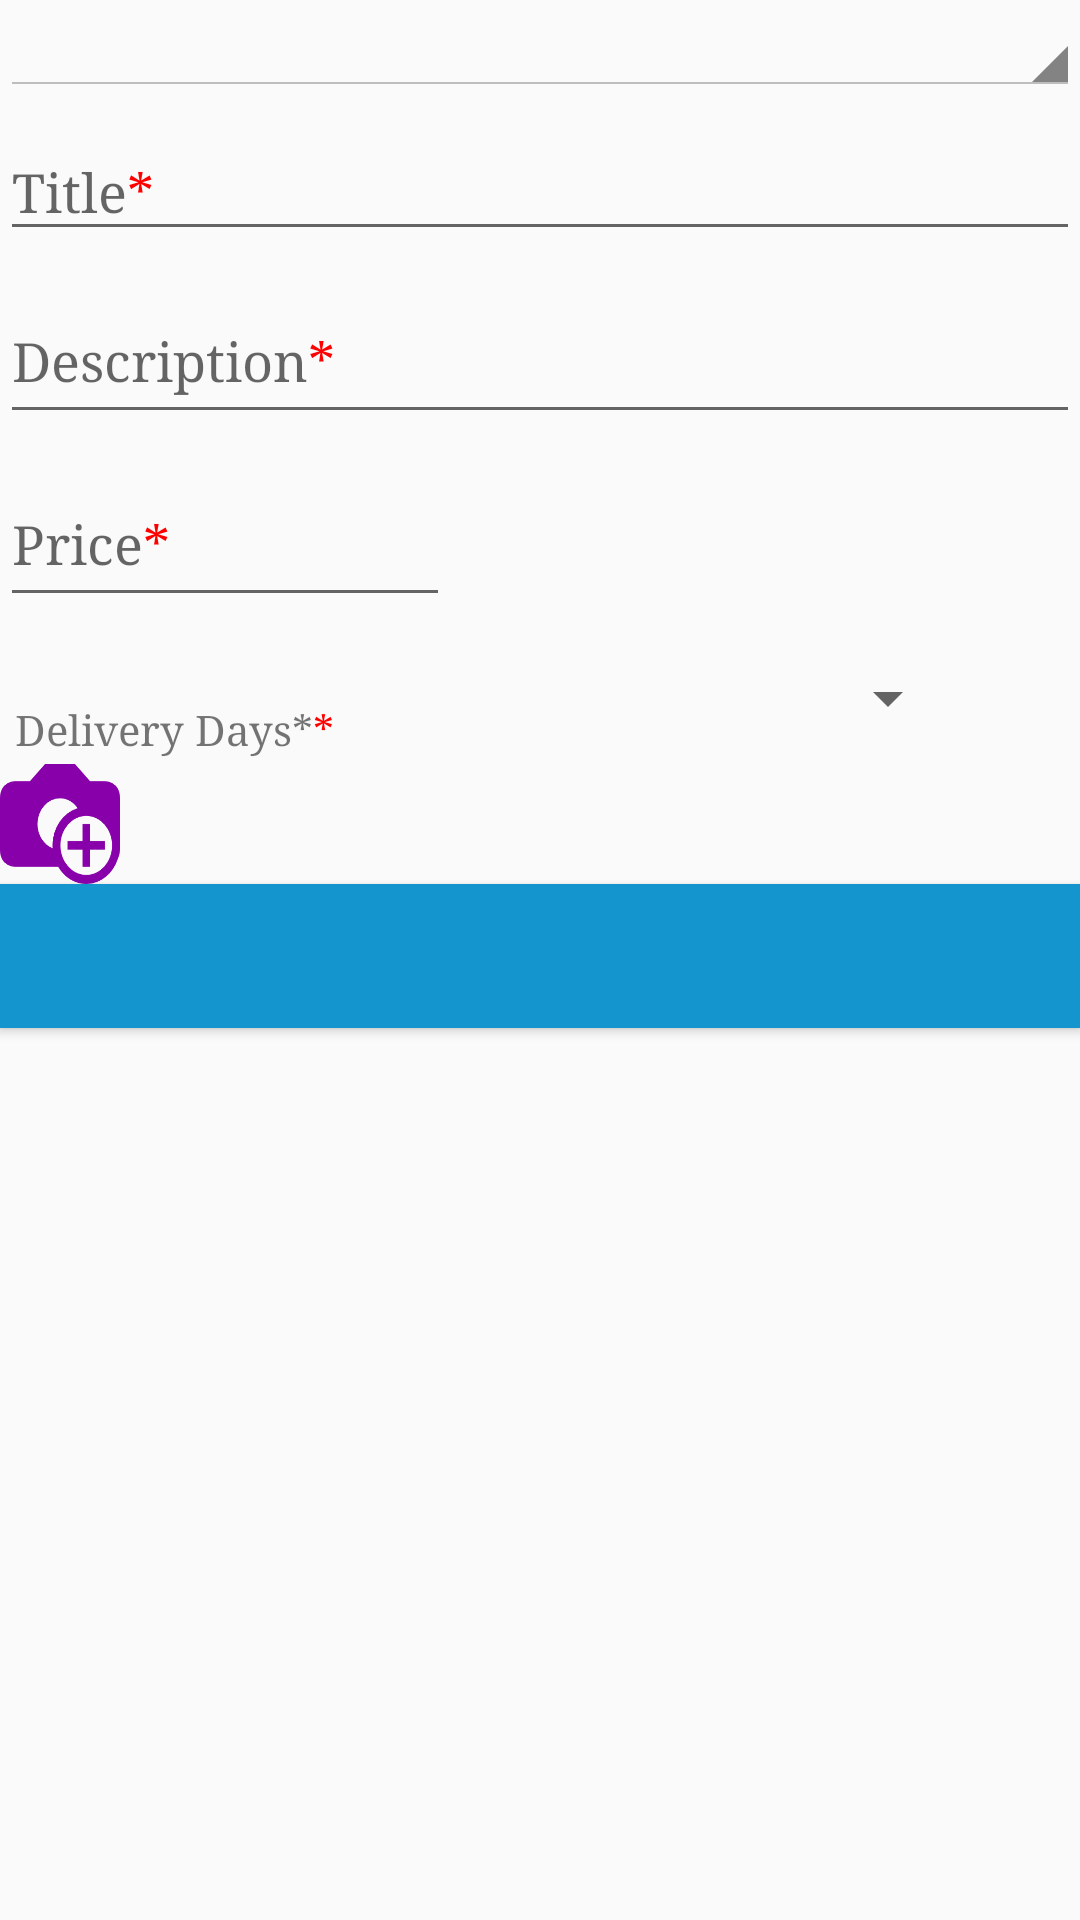

Icons on this 1080w x 1920h Android screen, each with its box as (x1, y1, x2, y2):
add: (0, 764, 120, 884)
